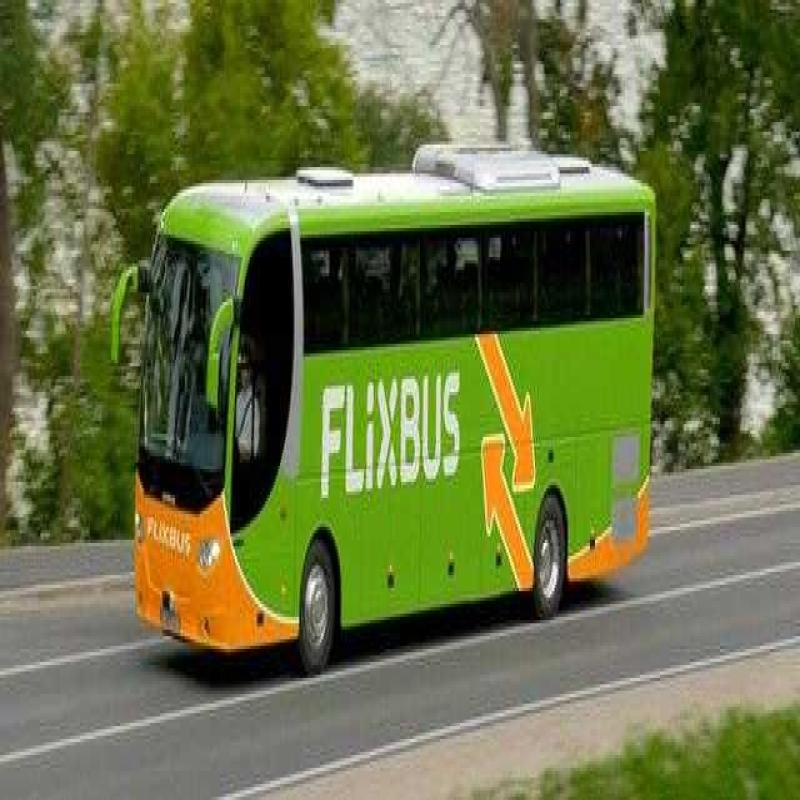bus: (120, 129, 702, 660)
